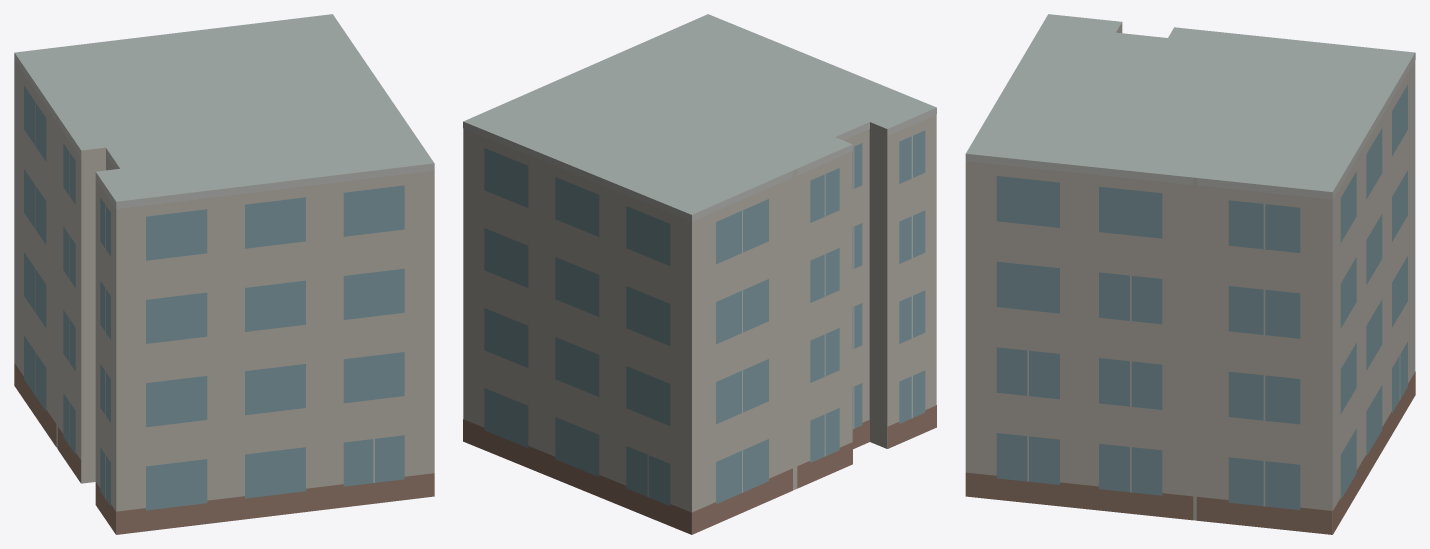
The model's file is survey-upis-32726543.glb.
3 views of the same model, side by side, from view 1: azimuth 30°, elevation 25°; view 2: azimuth 150°, elevation 25°; view 3: azimuth 270°, elevation 25° (orthographic). The views are drawn at different scales.
Visible parts, largest first — view 1: survey-upis-32726543.tmp; view 2: survey-upis-32726543.tmp; view 3: survey-upis-32726543.tmp.
Boxes of the visible parts, left/top/right/bottom form: survey-upis-32726543.tmp: left=14, top=14, right=434, bottom=534; survey-upis-32726543.tmp: left=463, top=14, right=936, bottom=534; survey-upis-32726543.tmp: left=965, top=14, right=1415, bottom=534.
Bounding box in the file's own units: 12.49 × 11.2 × 13.33.
